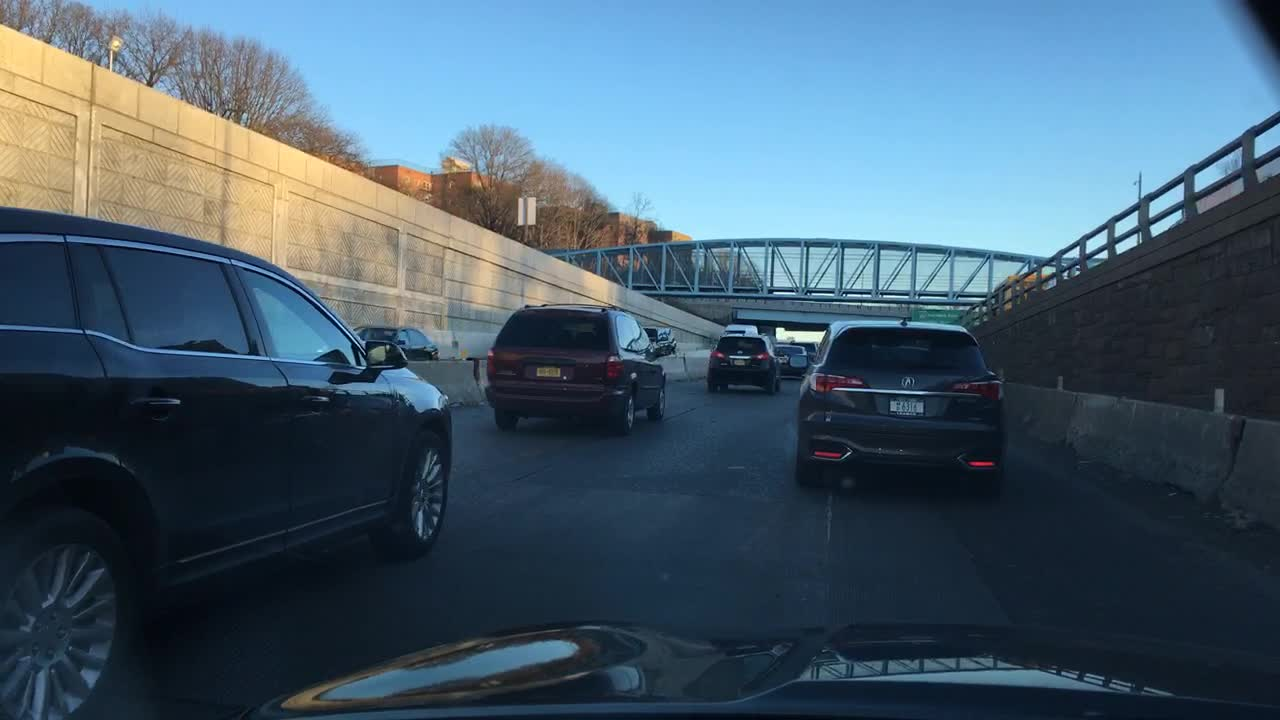bus: (724, 323, 757, 336)
car: (0, 207, 454, 718), (796, 319, 1005, 494), (483, 301, 667, 433), (706, 336, 779, 393), (355, 322, 441, 363), (785, 338, 823, 375), (770, 341, 809, 372), (637, 325, 673, 358)
traffic sign: (514, 196, 538, 226)
